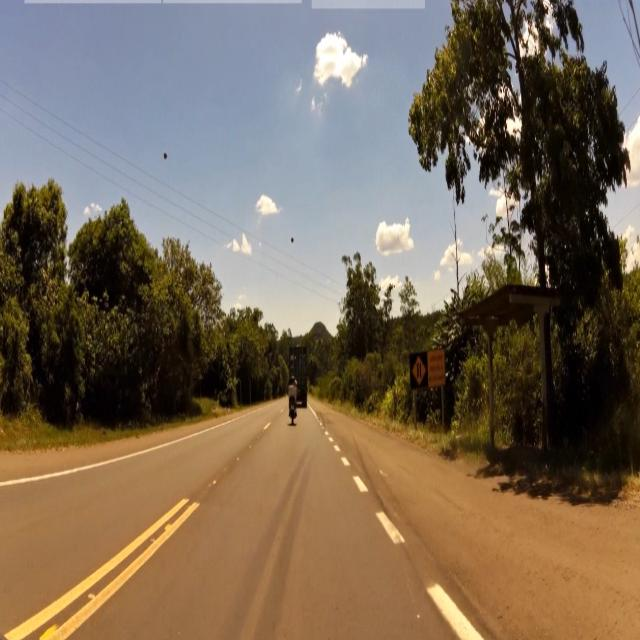A-22: (411, 357, 426, 384)
